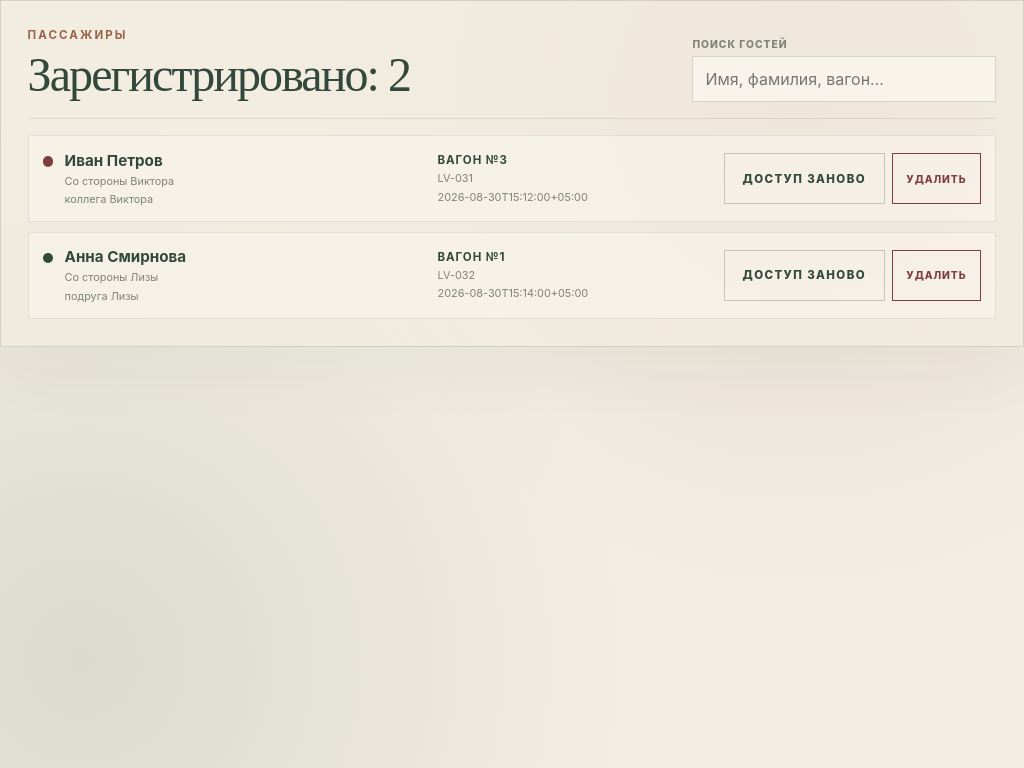
Test case: AdminGuestsPage › issues a one-time recovery code for a lost or replaced phone
This screenshot has width=1024, height=768.
Click the button with aria-label "ВЫДАТЬ ДОСТУП ЗАНОВО Иван Петров" at (804, 179), box [724,153,885,204]
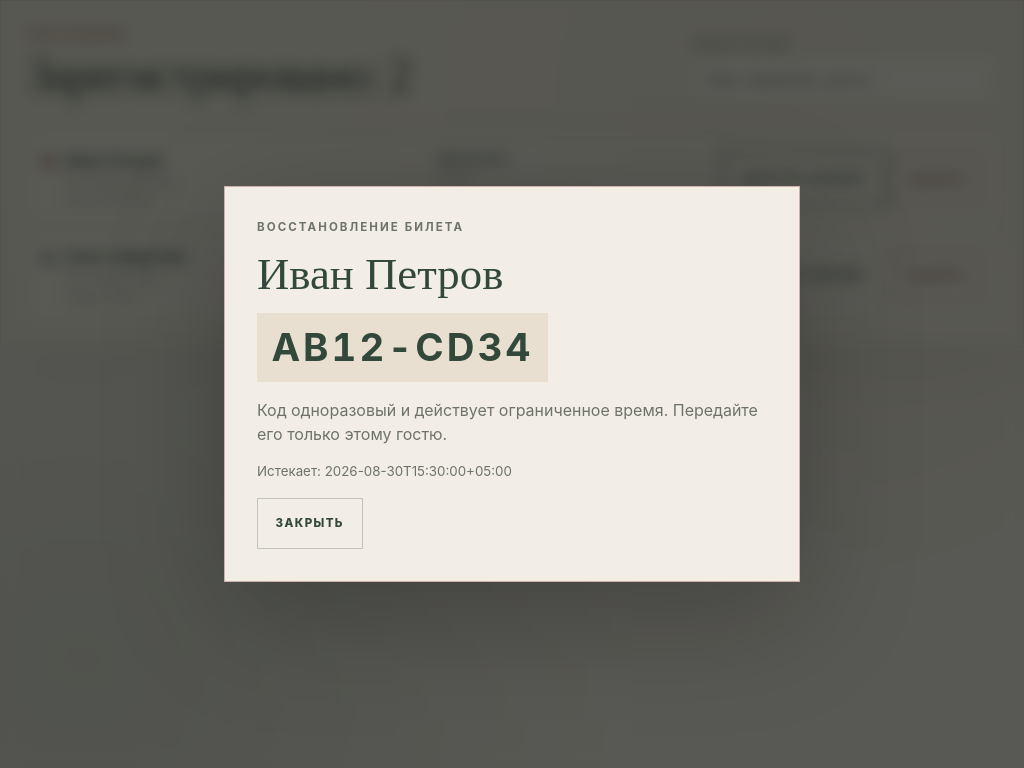
Now the text "AB12-CD34" is shown, box [257,313,548,382]
Now the dialog shows "Код одноразовый", box [257,400,758,444]
